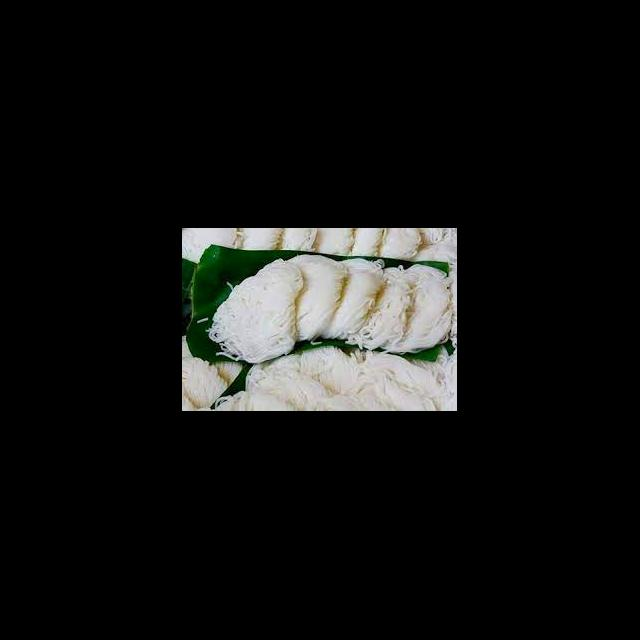noodles: (268, 358, 432, 410), (220, 264, 302, 359), (294, 256, 374, 342), (379, 264, 452, 348)
